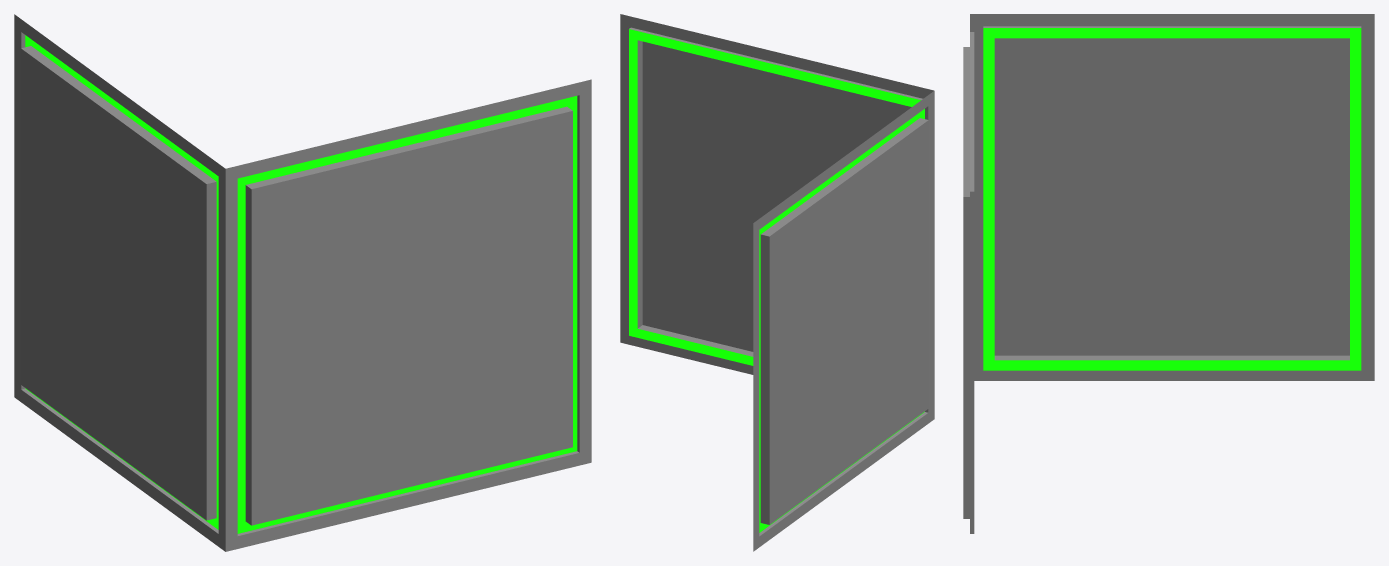
Rendered from Wall_03_Corner.FBX.
The picture shows the model from 3 angles, left to right: view 1: azimuth 30°, elevation 25°; view 2: azimuth 150°, elevation 25°; view 3: azimuth 270°, elevation 25°; orthographic projection. The views are drawn at different scales.
Visible parts, largest first — view 1: Wall_03_Corner_LOD0; view 2: Wall_03_Corner_LOD0; view 3: Wall_03_Corner_LOD0.
Boxes of the visible parts, x1,y1,x2,y2 form: Wall_03_Corner_LOD0: (14, 14, 591, 551); Wall_03_Corner_LOD0: (620, 14, 934, 551); Wall_03_Corner_LOD0: (963, 14, 1374, 533).
Size of what is drawn, in the model's own units: 183 by 180 by 183.
